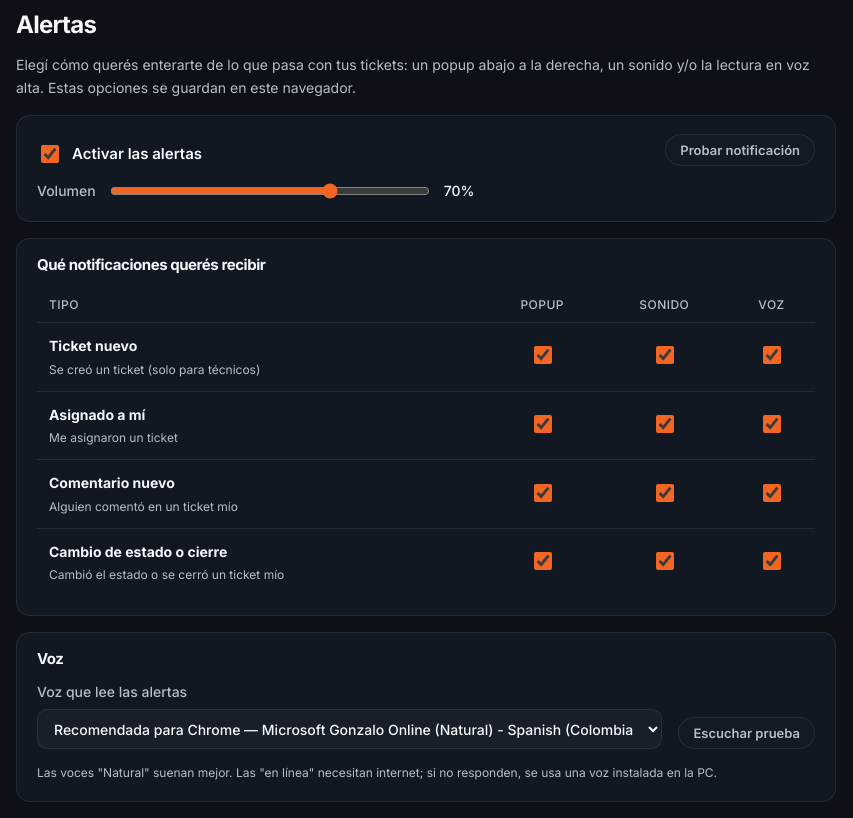
Test case: Alertas › el volumen se guarda
// user-event no maneja bien los range: se usa el evento de cambio directo
Set the slider labelled "Volumen" to "30". click: (209, 191)
box: [110, 183, 430, 199]
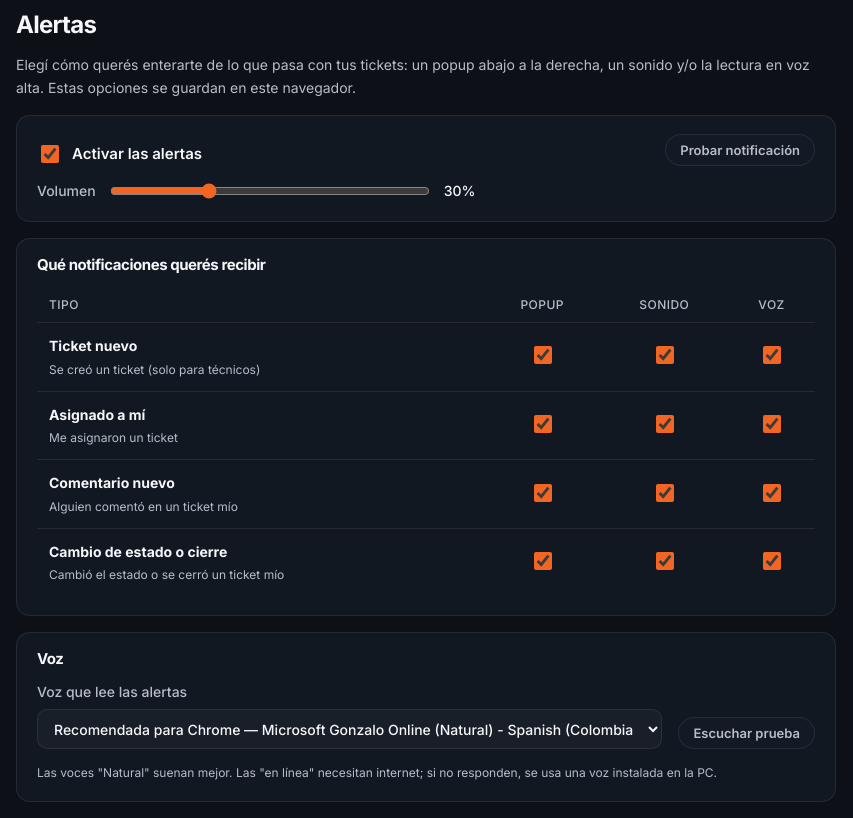
Result: the text "30%" is shown at [444, 182, 475, 199]
